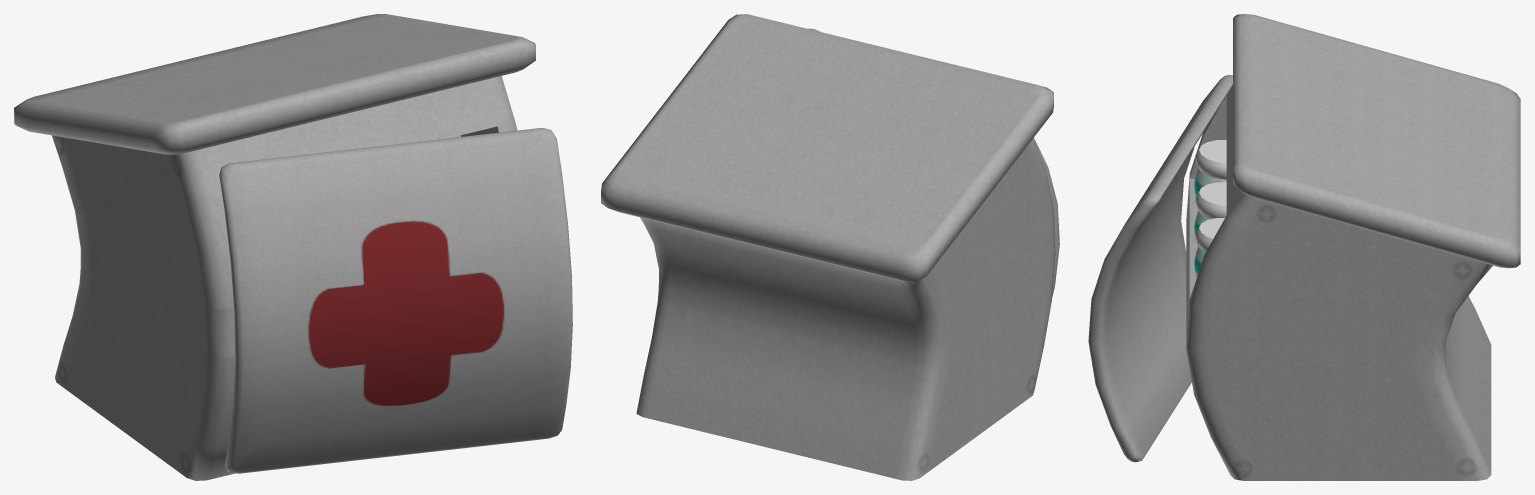
The model's file is Cabinet_OR.glb.
3 views of the same model, side by side, from view 1: azimuth 30°, elevation 25°; view 2: azimuth 150°, elevation 25°; view 3: azimuth 270°, elevation 25° (orthographic). The views are drawn at different scales.
Parts seen in each view (by area): view 1: Cube.002, Cube.001; view 2: Cube.001, Cube.002; view 3: Cube.001, Cube.002, Cylinder.009, Cylinder.014, Cylinder.010.
Boxes of the visible parts, x1=… form: Cube.002: x1=219, y1=127, x2=572, y2=473; Cube.001: x1=14, y1=14, x2=535, y2=480; Cube.001: x1=601, y1=14, x2=1055, y2=480; Cube.002: x1=808, y1=28, x2=1059, y2=297; Cube.001: x1=1186, y1=14, x2=1520, y2=480; Cube.002: x1=1088, y1=75, x2=1232, y2=462; Cylinder.009: x1=1195, y1=140, x2=1226, y2=179; Cylinder.014: x1=1195, y1=182, x2=1226, y2=218; Cylinder.010: x1=1195, y1=218, x2=1224, y2=252.
Bounding box in the file's own units: 1.38 × 1.26 × 1.54.
Materials: 5 (5 with a texture image).
